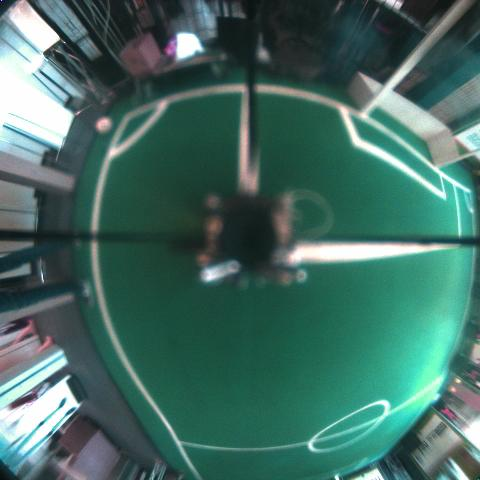ball: (95, 117, 113, 133), (448, 386, 455, 392), (454, 378, 461, 383)
goal: (360, 0, 477, 118), (434, 149, 479, 169)
person: (0, 232, 81, 274), (1, 279, 94, 313)
robot: (450, 353, 479, 390), (432, 399, 457, 419), (464, 322, 479, 339)
